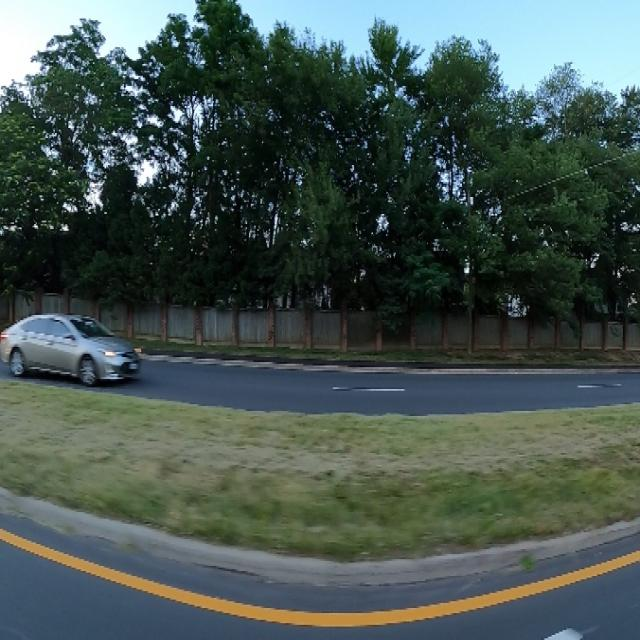cars: (0, 292, 149, 383)
